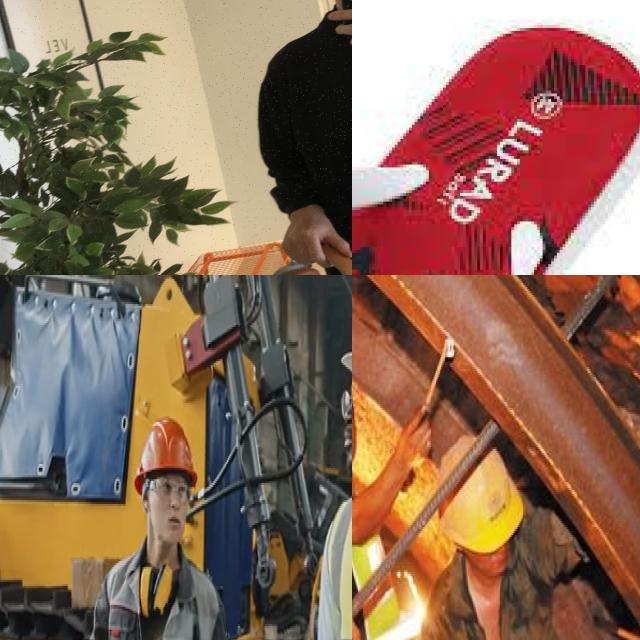Ear-protection: (133, 556, 182, 622)
Sandals: (352, 0, 640, 275)
glasses: (145, 471, 195, 503), (338, 381, 352, 420)
hand_noglove: (390, 416, 430, 489)
head_helmet: (440, 450, 524, 552), (135, 414, 197, 483), (440, 435, 473, 480)
person: (80, 413, 242, 640), (286, 288, 352, 640)
